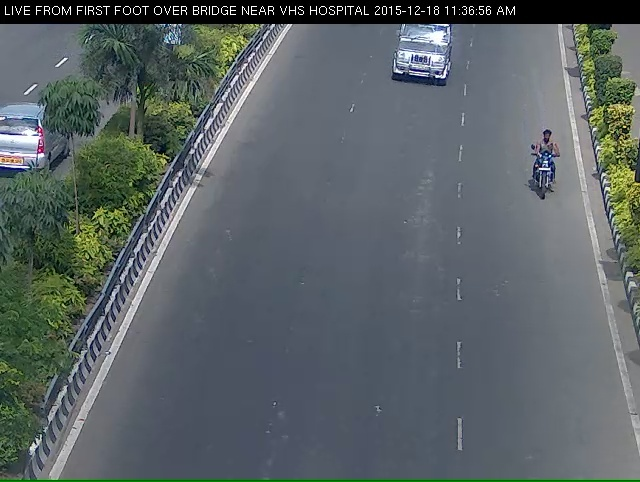Car: (385, 21, 457, 94)
Person: (522, 135, 571, 228)
